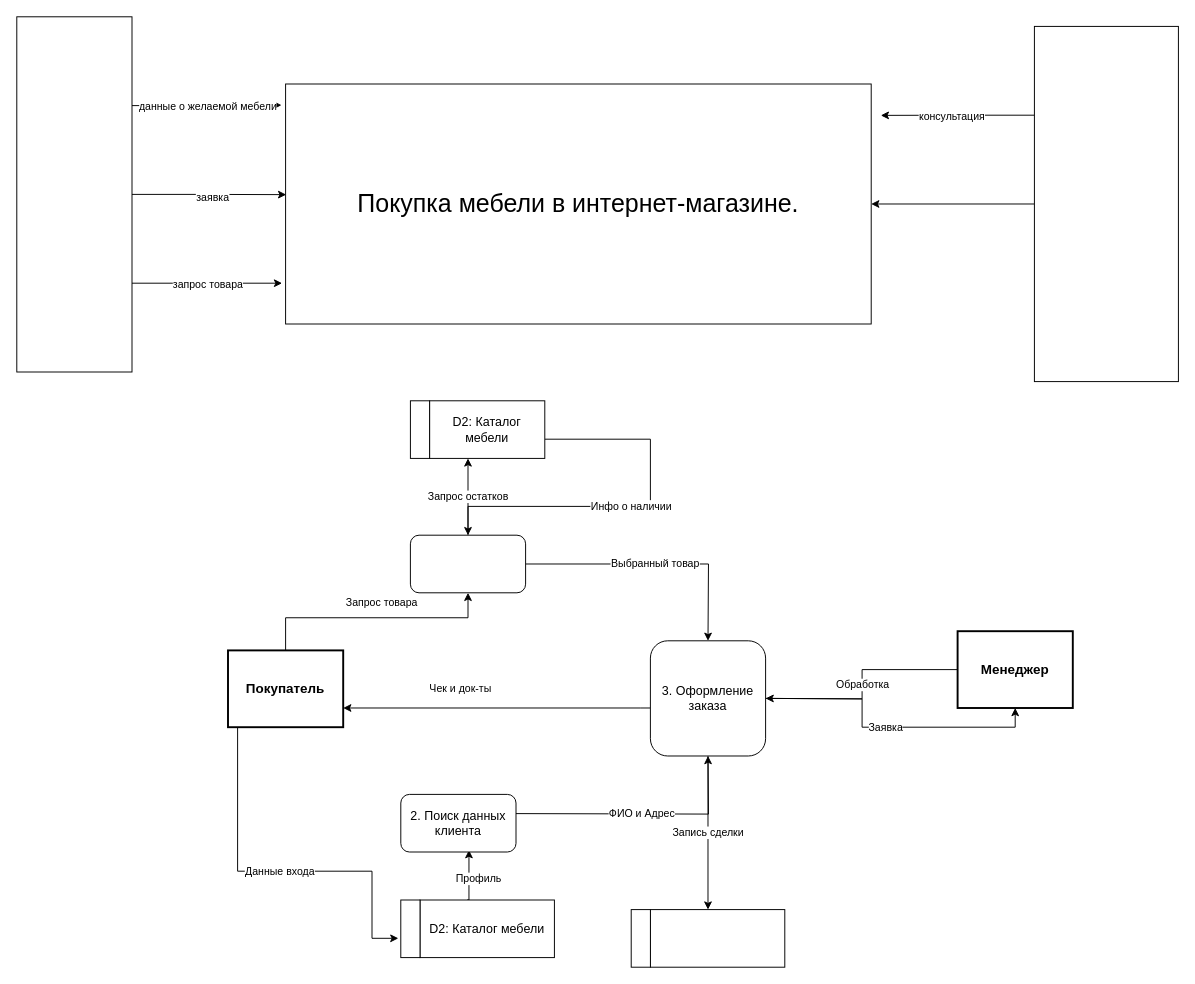
Image size: 1195x984. Some labels were removed from this diagram. The centre of each missing label's shape, as x and y in pixels:
"1. Проверка наличия" goes at [467,563].
"D3: Журнал заказов" goes at [717,938].
"Клиент" goes at [74,194].
"менеджеры" goes at [1105,203].
